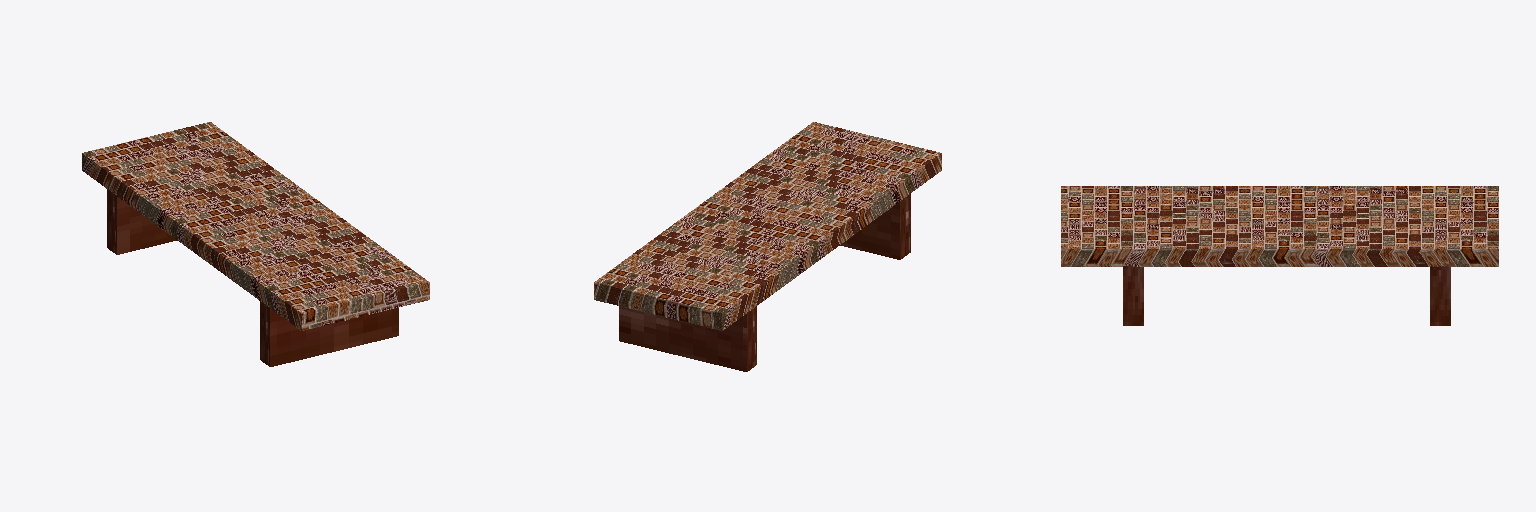
3 renders of one model, left to right at view 1: azimuth 30°, elevation 25°; view 2: azimuth 150°, elevation 25°; view 3: azimuth 270°, elevation 25°, orthographic.
Visible parts, largest first — view 1: Cube, Cube.002, Cube.001; view 2: Cube, Cube.001, Cube.002; view 3: Cube, Cube.002, Cube.001.
Boxes of the visible parts, x1=… form: Cube: x1=82, y1=122, x2=429, y2=330; Cube.002: x1=260, y1=301, x2=398, y2=366; Cube.001: x1=107, y1=189, x2=176, y2=254; Cube: x1=594, y1=122, x2=941, y2=330; Cube.001: x1=619, y1=306, x2=756, y2=371; Cube.002: x1=840, y1=193, x2=910, y2=259; Cube: x1=1061, y1=186, x2=1498, y2=266; Cube.002: x1=1123, y1=266, x2=1143, y2=325; Cube.001: x1=1430, y1=266, x2=1450, y2=325.
Bounding box in the file's own units: 2 × 1.14 × 5.92.
Materials: 2 (1 with a texture image).